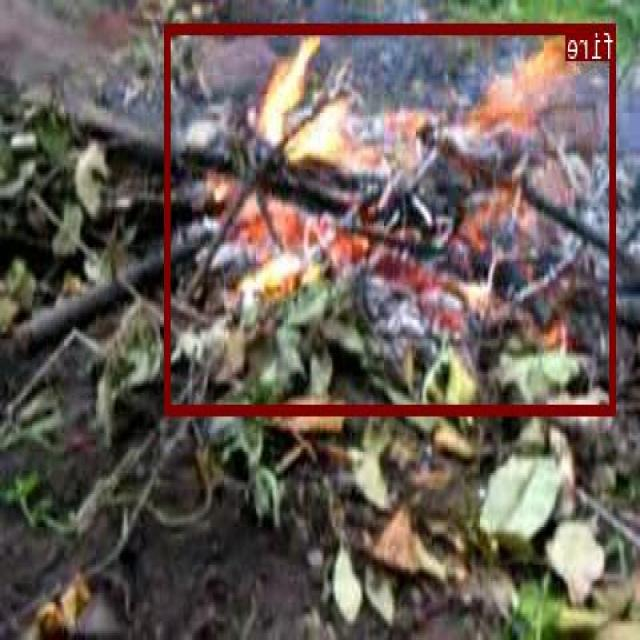fire: (166, 21, 617, 414)
